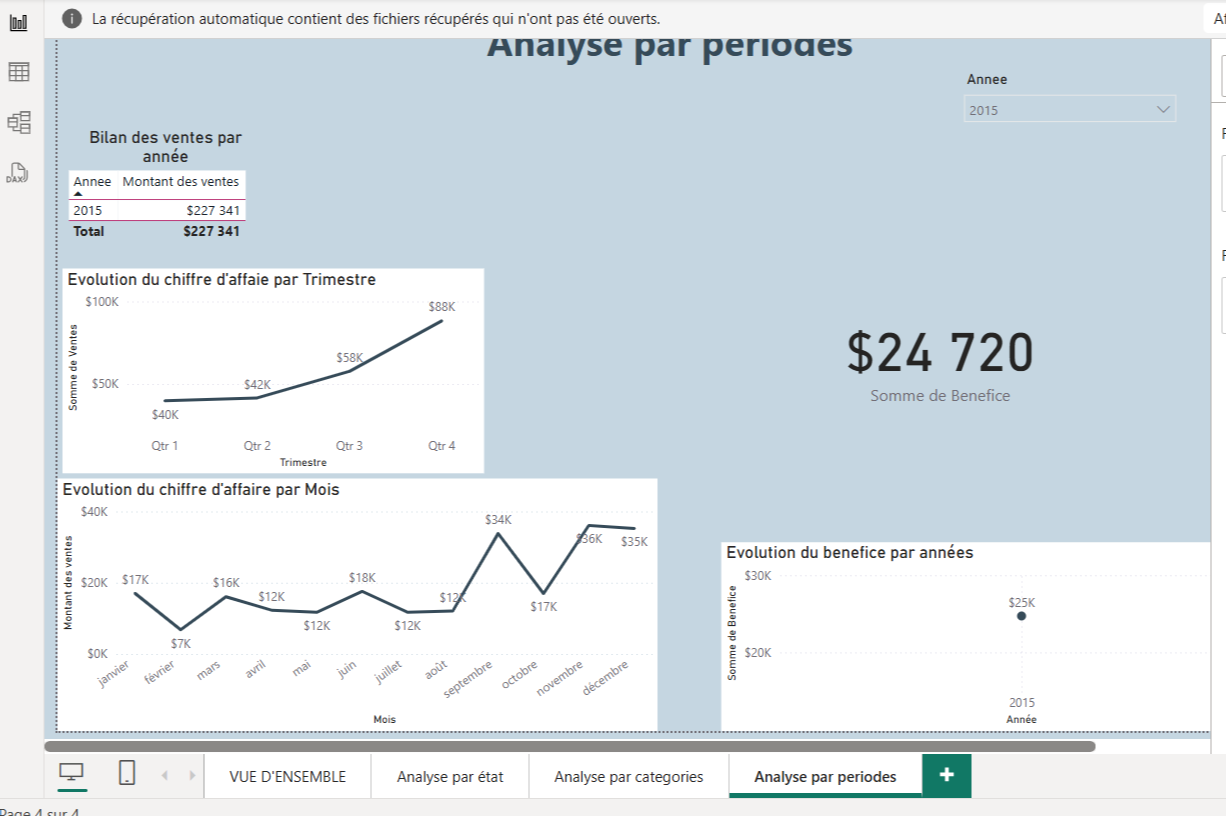

This screenshot's page, from the dashboard's own definition file:
{"tool":"powerbi","page":{"name":"Analyse par periodes","canvas":[1280,720],"ordinal":3},"visuals":[{"type":"tableEx","title":"Bilan des ventes par année","fields":{"Values":["Date_02.Annee","SuperStore.Montant des ventes"]},"box":[5,116.2,206.2,118.8],"z":0},{"type":"slicer","fields":{"Values":["Date_02.Annee"]},"box":[896.2,55,232.5,88.8],"z":1000},{"type":"lineChart","title":"Evolution du chiffre d''affaire par Mois","fields":{"Category":["Date_02.Date.Variation.Hiérarchie de dates.Mois"],"Y":["SuperStore.Montant des ventes"]},"box":[0,467.5,600,252.5],"z":2000},{"type":"textbox","box":[351.2,0,532.5,63.8],"z":3000},{"type":"lineChart","title":"Evolution du benefice par années","fields":{"Category":["Date_02.Date.Variation.Hiérarchie de dates.Année"],"Y":["Sum(SuperStore.Benefice)"]},"box":[663.8,531.2,546.2,188.8],"z":4000},{"type":"card","fields":{"Values":["Sum(SuperStore.Benefice)"]},"box":[753.8,278.8,258.8,132.5],"z":5000},{"type":"lineChart","title":"Evolution du chiffre d''affaie par Trimestre","fields":{"Category":["Date_02.Date.Variation.Hiérarchie de dates.Trimestre"],"Y":["Sum(SuperStore.Ventes)"]},"box":[5,257.5,421.2,205],"z":6000}]}

Visuals, with their boxes on the page's 1280x720 design canvas (x1, y1, x2, y2). These are canvas units, not pixel positions in the 1226x816 screenshot, which may show the page scaled, cropped or inside an application window:
"Bilan des ventes par année" tableEx: <bbox>5, 116, 211, 235</bbox>
slicer - Date_02.Annee: <bbox>896, 55, 1129, 144</bbox>
"Evolution du chiffre d''affaire par Mois" lineChart: <bbox>0, 468, 600, 720</bbox>
textbox: <bbox>351, 0, 884, 64</bbox>
"Evolution du benefice par années" lineChart: <bbox>664, 531, 1210, 720</bbox>
card - Sum(SuperStore.Benefice): <bbox>754, 279, 1013, 411</bbox>
"Evolution du chiffre d''affaie par Trimestre" lineChart: <bbox>5, 258, 426, 462</bbox>
